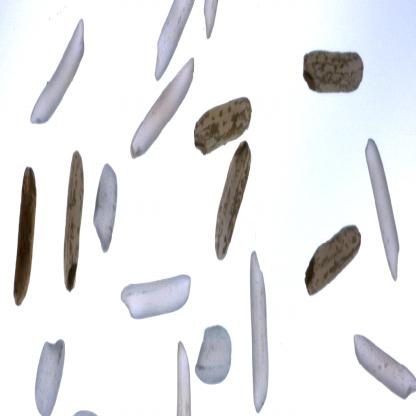Full: (130, 58, 194, 159), (30, 17, 85, 125), (364, 138, 400, 280), (305, 214, 361, 298), (214, 140, 252, 258), (354, 332, 416, 398), (13, 162, 37, 306), (194, 96, 252, 155), (120, 274, 191, 320), (250, 250, 269, 414), (302, 47, 364, 94), (63, 149, 83, 289), (35, 338, 65, 415), (93, 162, 118, 254), (195, 323, 232, 385)
